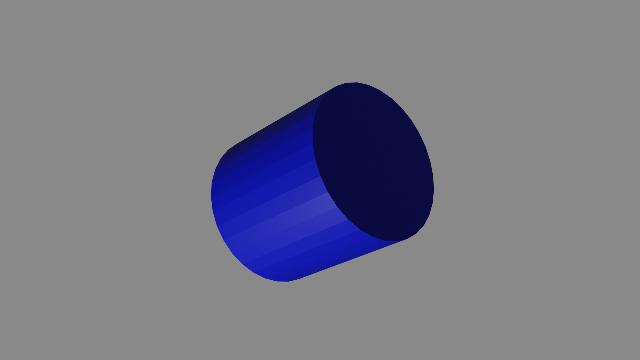Cylinder: (206, 79, 442, 289)
